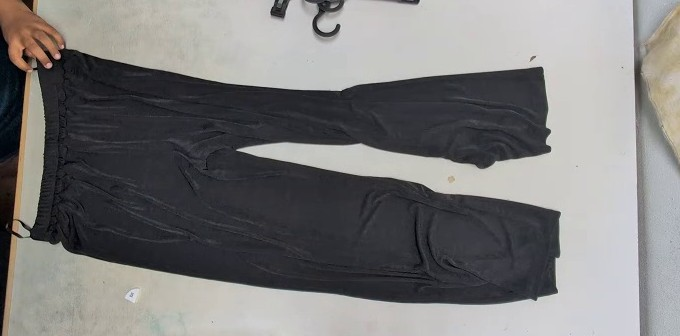TROUSER: (140, 24, 559, 336)
